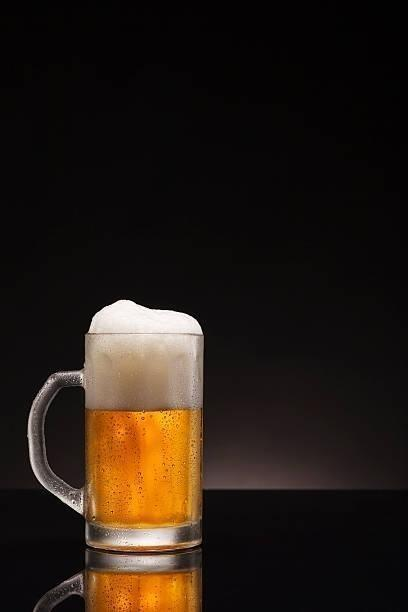glass-mug: (25, 320, 207, 554)
